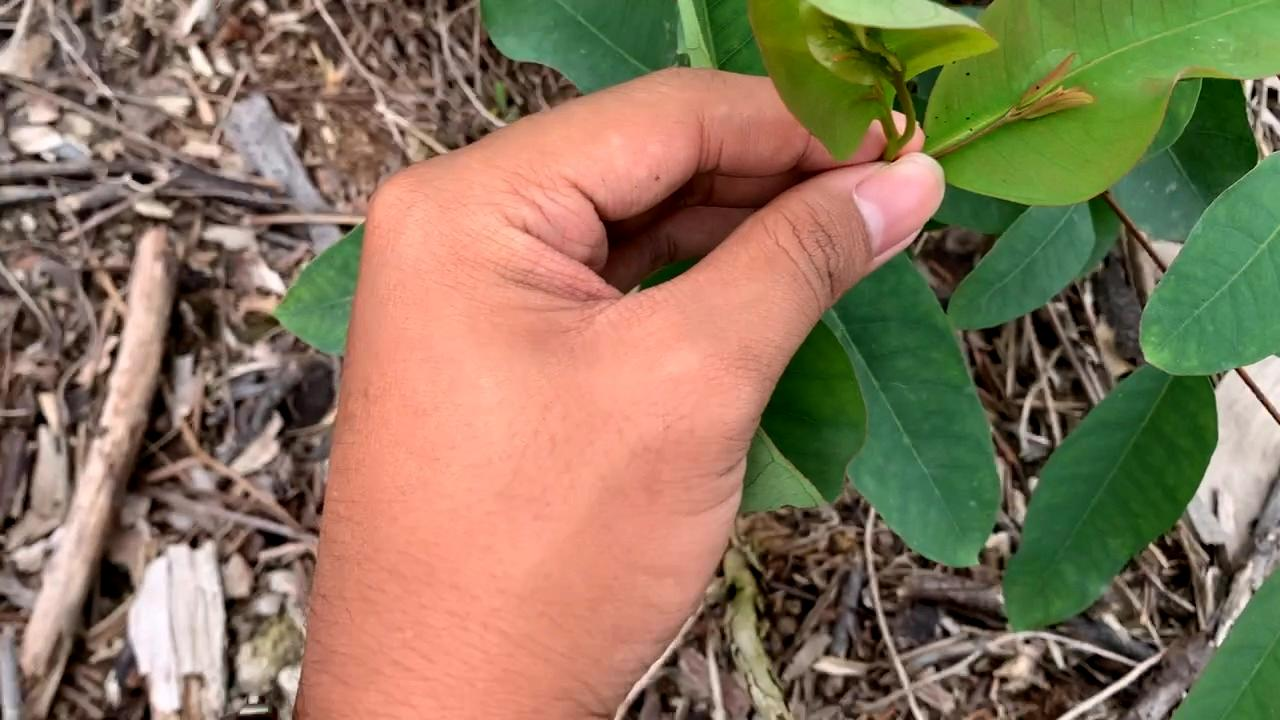Leaf Roller - Leaf: (741, 0, 1003, 179)
